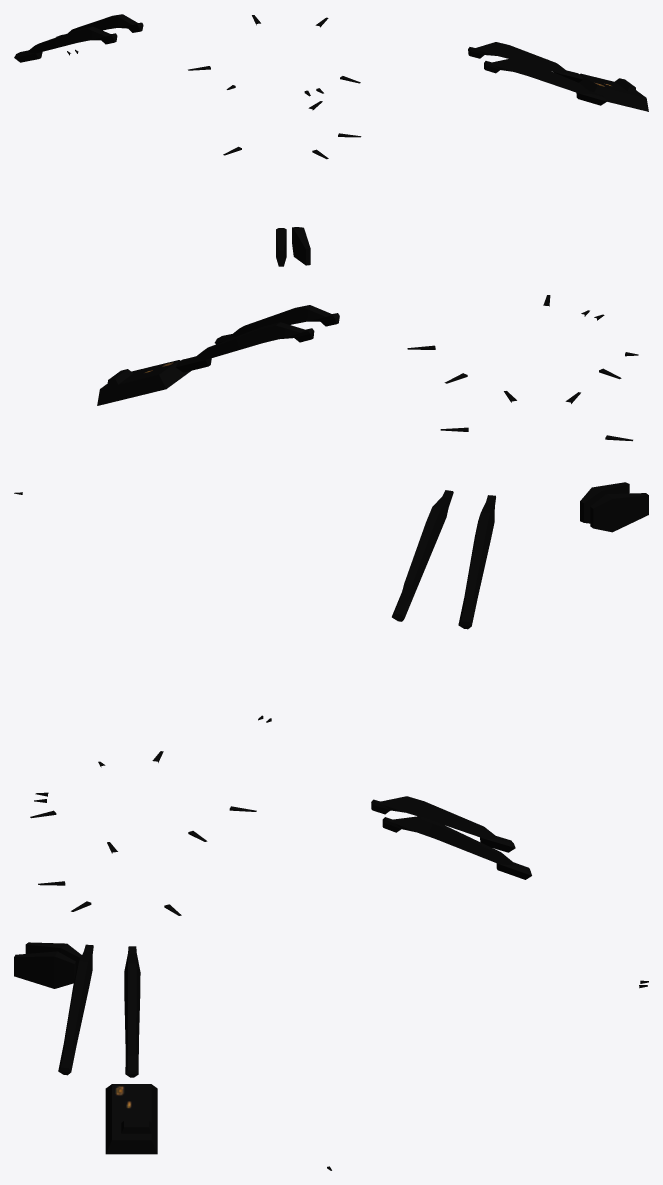
The model's file is tr1_outpost_03.glb.
3 views of the same model, one above another, from view 1: azimuth 30°, elevation 25°; view 2: azimuth 150°, elevation 25°; view 3: azimuth 270°, elevation 25° (orthographic). The views are drawn at different scales.
Parts seen in each view (by area): view 1: tr1_outpost_03_parts_LOD0; view 2: tr1_outpost_03_parts_LOD0; view 3: tr1_outpost_03_parts_LOD0.
Part boxes in pixels (box(x1,y1,x2,y2)): tr1_outpost_03_parts_LOD0: box(14, 14, 648, 266); tr1_outpost_03_parts_LOD0: box(14, 295, 648, 722); tr1_outpost_03_parts_LOD0: box(14, 751, 648, 1170).
Size of what is drawn, in the model's own units: 43.98 by 15.42 by 44.64.
1 material, 1 textured.
